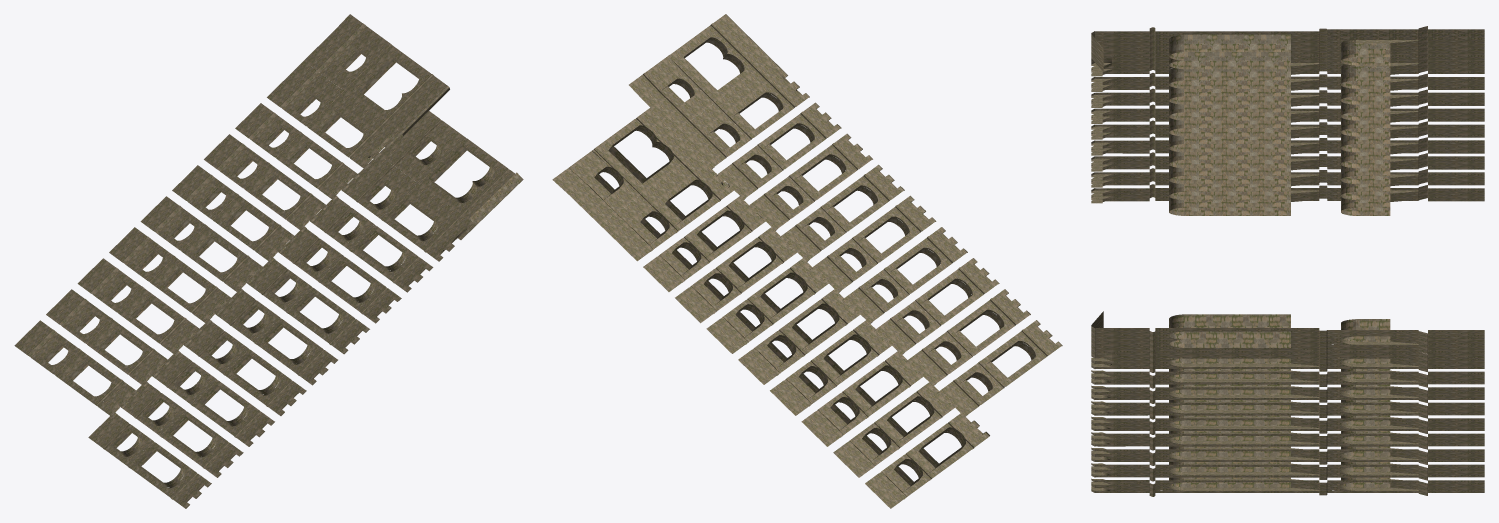
File: GreatHallWalls.fbx
3 views of the same model, side by side, from view 1: azimuth 30°, elevation 25°; view 2: azimuth 150°, elevation 25°; view 3: azimuth 270°, elevation 25° (orthographic). The views are drawn at different scales.
Visible parts, largest first — view 1: Great Hall Walls; view 2: Great Hall Walls; view 3: Great Hall Walls.
Part boxes in pixels (x1,y1,x2,y2): Great Hall Walls: [14, 14, 523, 508]; Great Hall Walls: [552, 14, 1062, 508]; Great Hall Walls: [1091, 26, 1484, 496].
Size of the model in its own units: 82.1 by 68.72 by 33.81.
Materials: 1 (1 with a texture image).
